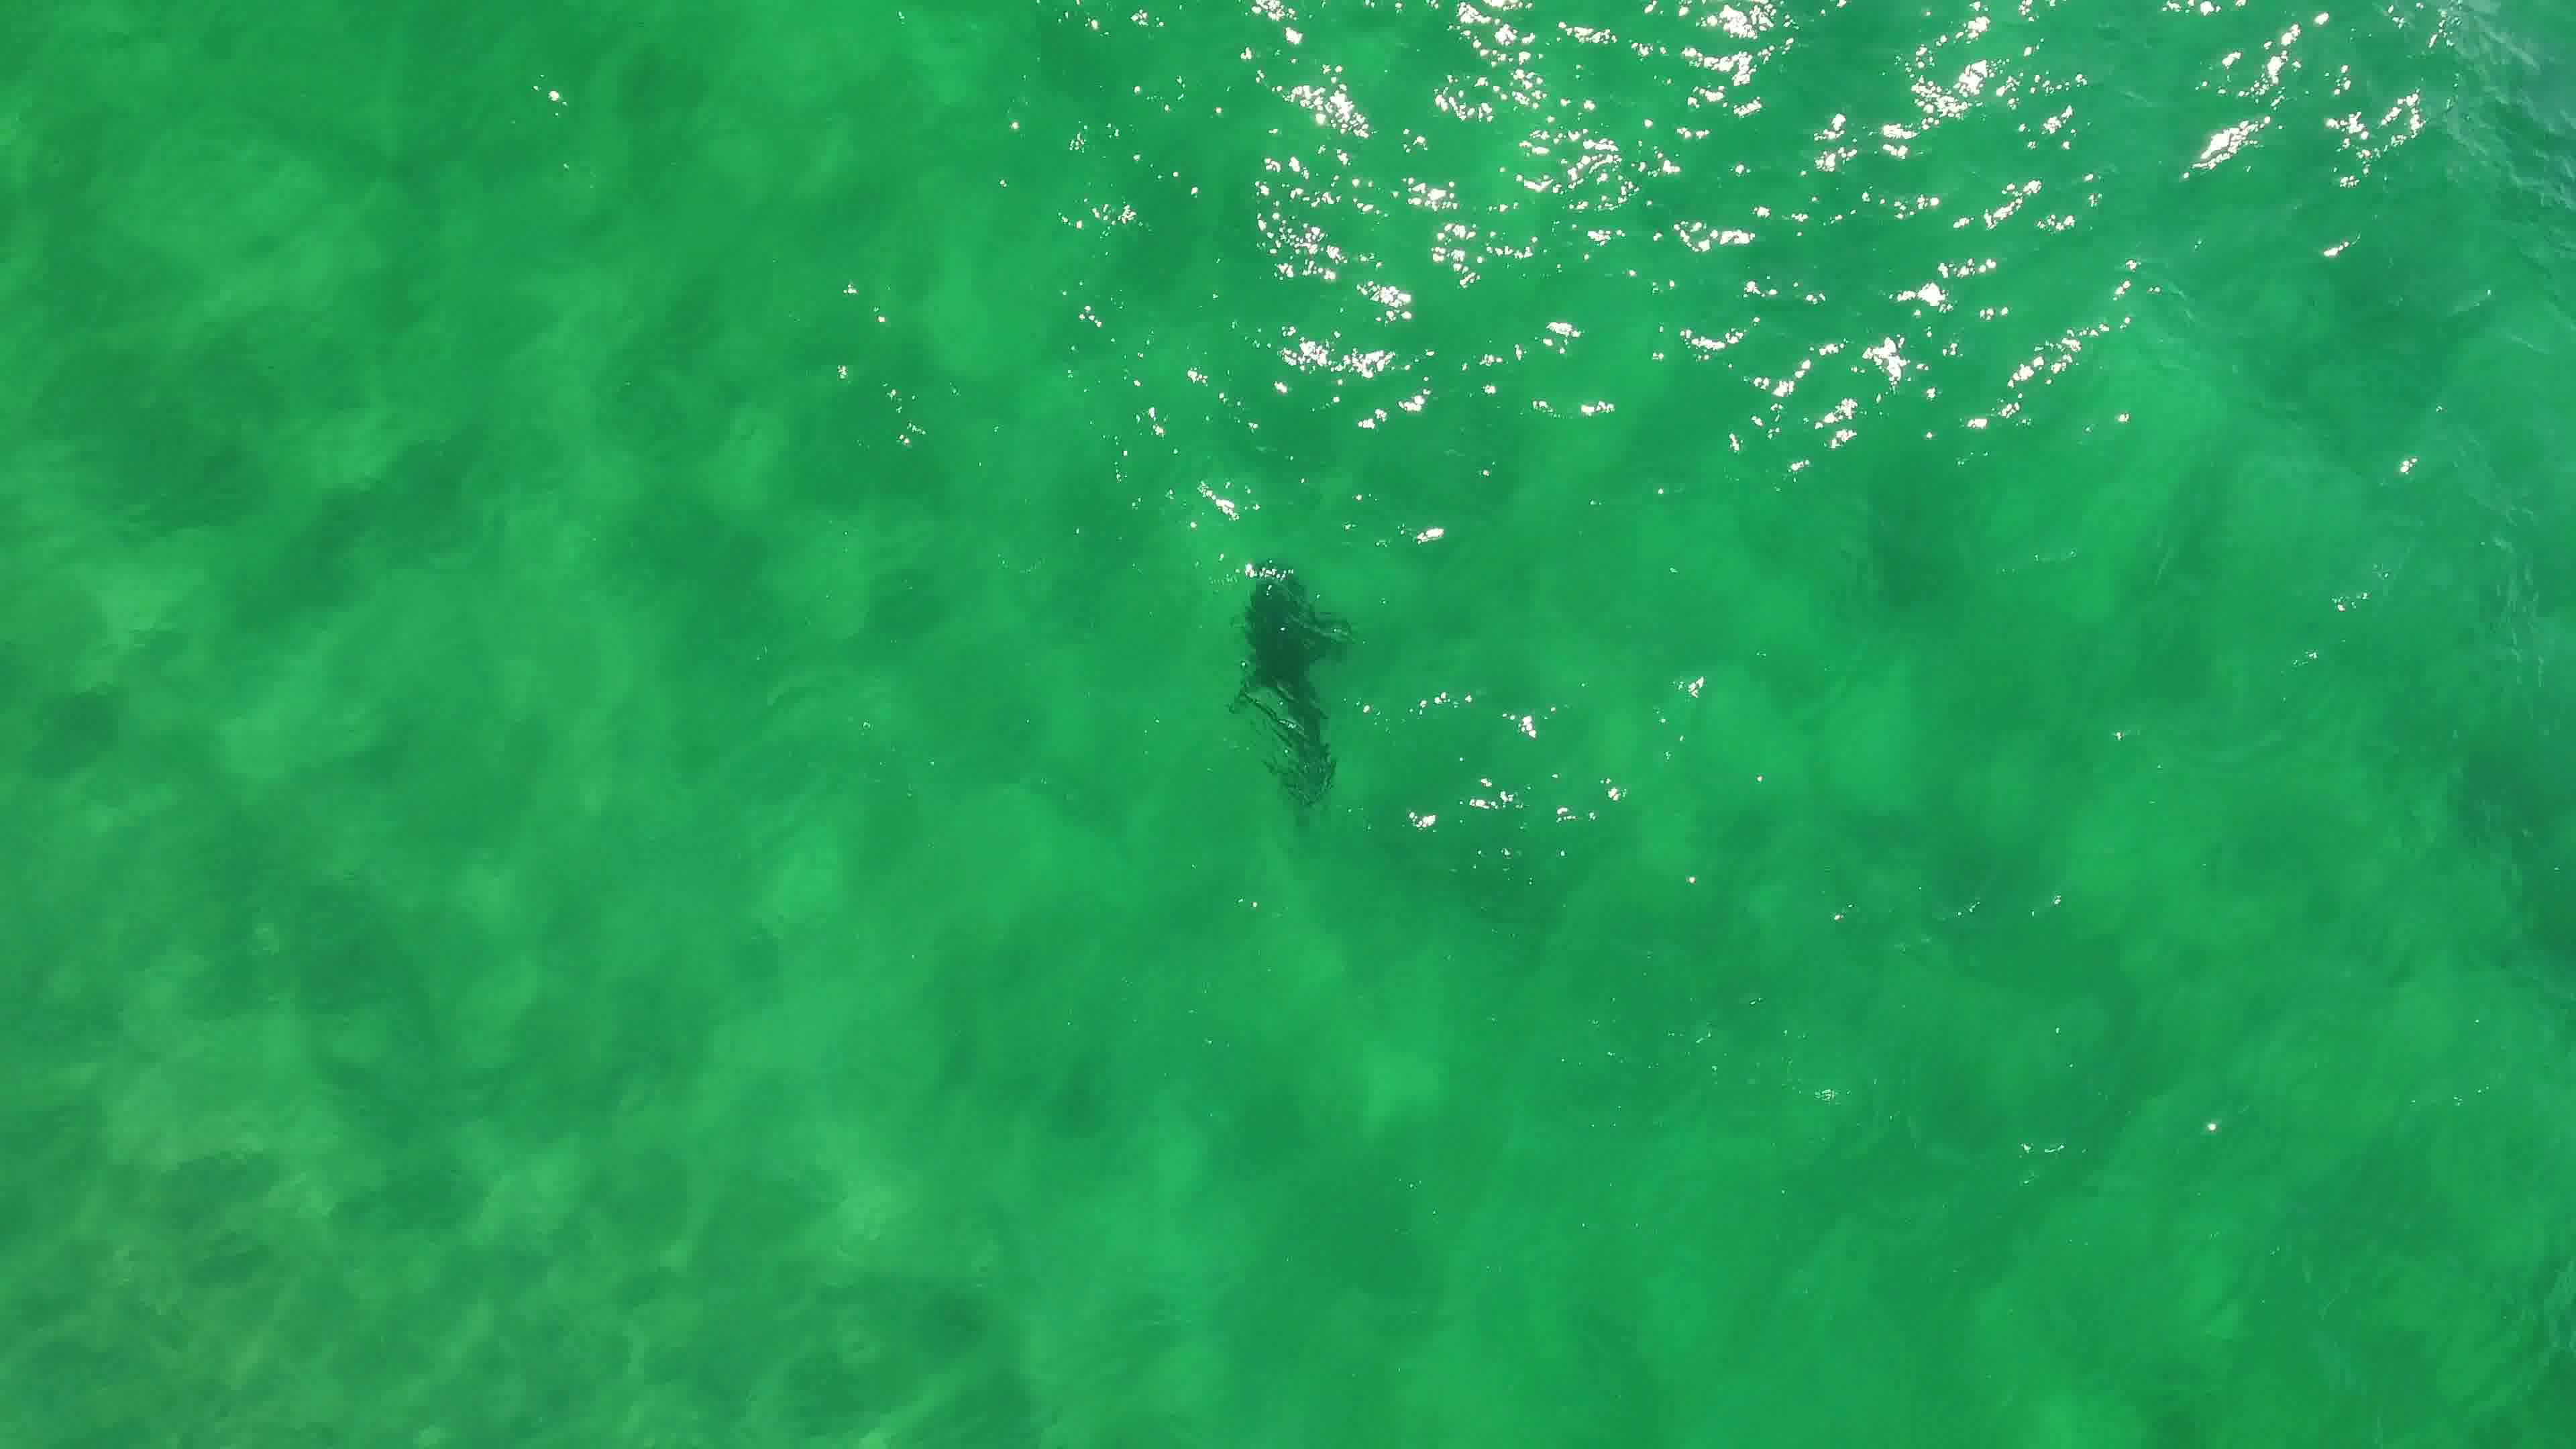shark: (1221, 550, 1359, 816)
